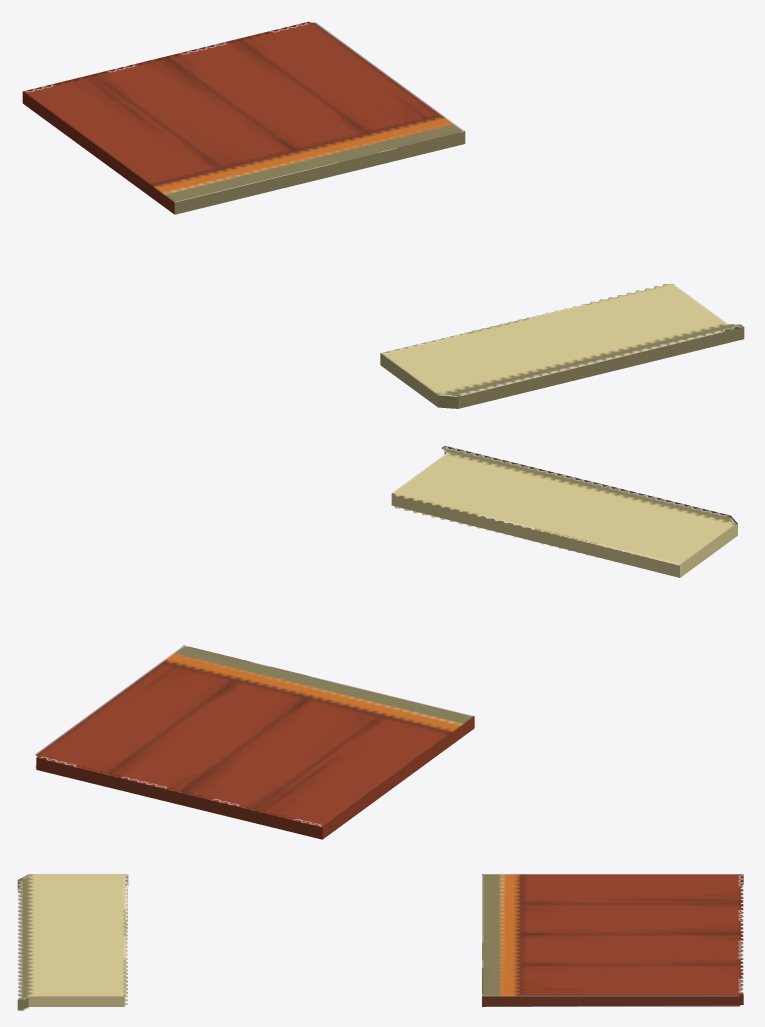
Rendered from pz_native_location_restaurant_spiffos_01_77_frame.obj.
3 renders of one model, top to bottom at view 1: azimuth 30°, elevation 25°; view 2: azimuth 150°, elevation 25°; view 3: azimuth 270°, elevation 25°, orthographic. The views are drawn at different scales.
Visible parts, largest first — view 1: pz_native_location_restaurant_spiffos_01_77_frame; view 2: pz_native_location_restaurant_spiffos_01_77_frame; view 3: pz_native_location_restaurant_spiffos_01_77_frame.
Part boxes in pixels (box(x1,y1,x2,y2)): pz_native_location_restaurant_spiffos_01_77_frame: box(22, 21, 744, 408); pz_native_location_restaurant_spiffos_01_77_frame: box(35, 446, 737, 839); pz_native_location_restaurant_spiffos_01_77_frame: box(17, 874, 743, 1010).
Size of the model in its own units: 1.06 by 0.04 by 2.55.
1 material, 1 textured.
